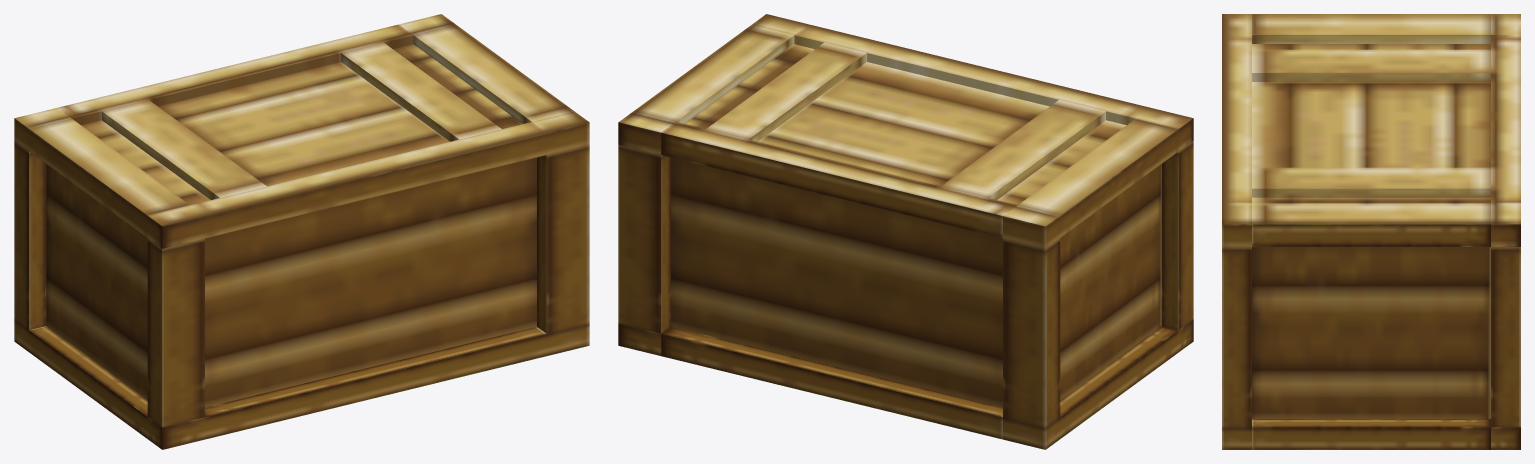
Rendered from Poly_Crate_01.obj.
3 renders of one model, left to right at view 1: azimuth 30°, elevation 25°; view 2: azimuth 150°, elevation 25°; view 3: azimuth 270°, elevation 25°, orthographic.
Visible parts, largest first — view 1: Cube.001; view 2: Cube.001; view 3: Cube.001.
Boxes of the visible parts, x1=… form: Cube.001: x1=14, y1=14, x2=589, y2=449; Cube.001: x1=618, y1=14, x2=1193, y2=449; Cube.001: x1=1222, y1=14, x2=1520, y2=449.
Bounding box in the file's own units: 1 × 0.5 × 0.6.
1 material, 1 textured.
